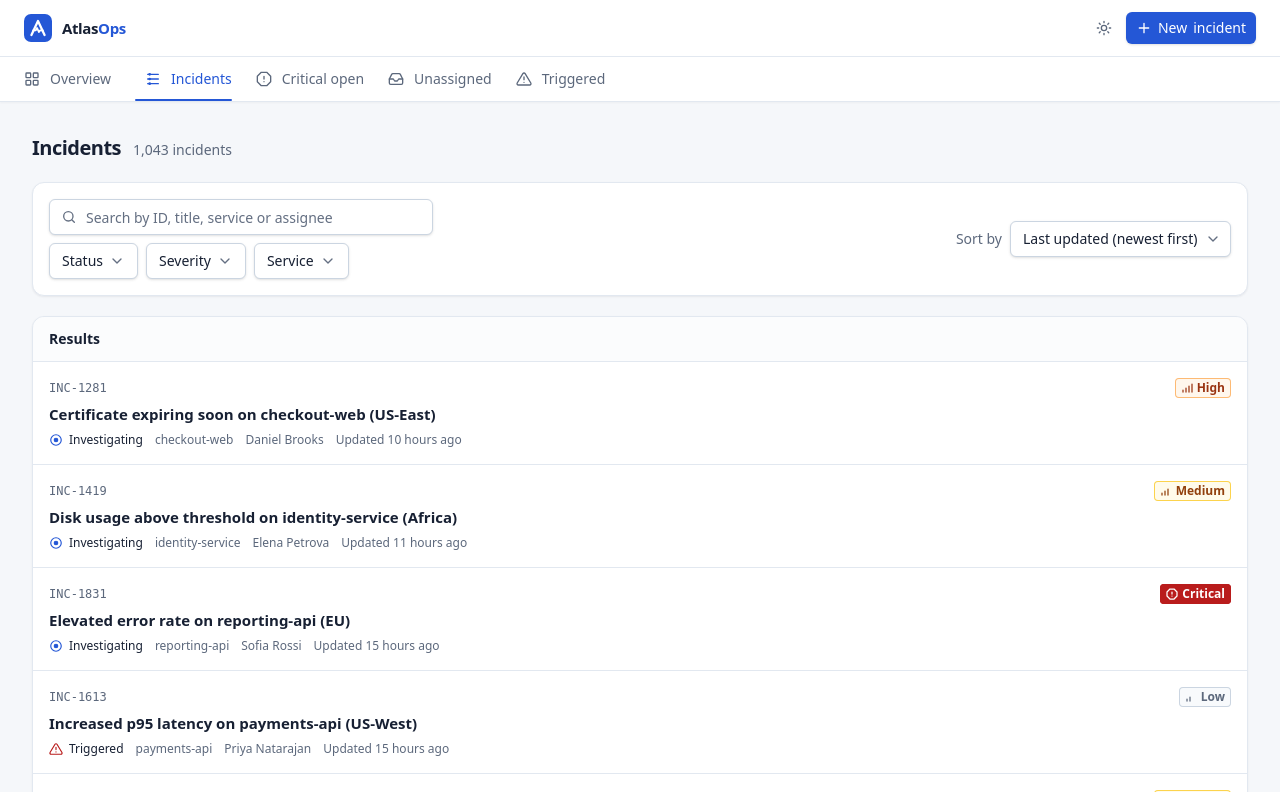
Test: Accessibility sweep › an open theme menu (compact header) has no violations
The image size is (1280, 792).
Click the button named "Theme:" at (1104, 28), box [1086,10,1122,46]
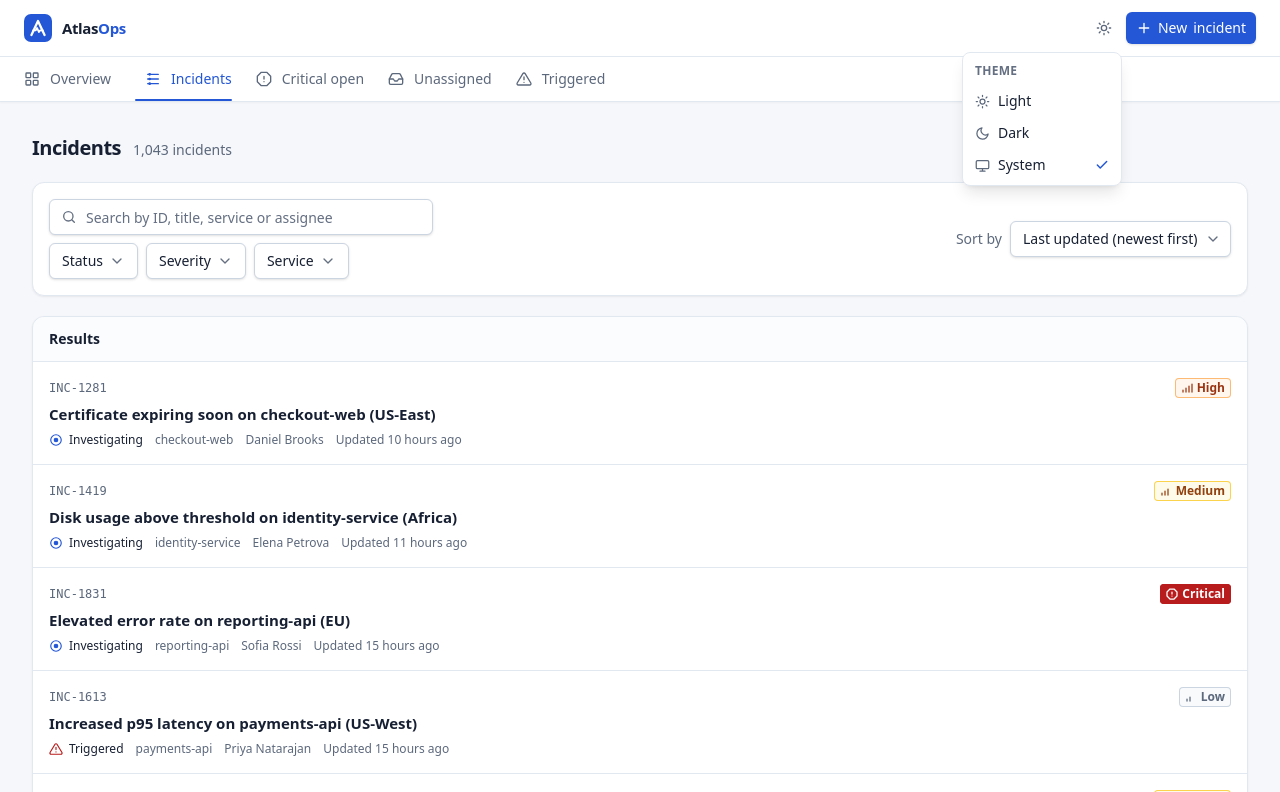
Expected: the menu is shown, [962,52,1122,186]
